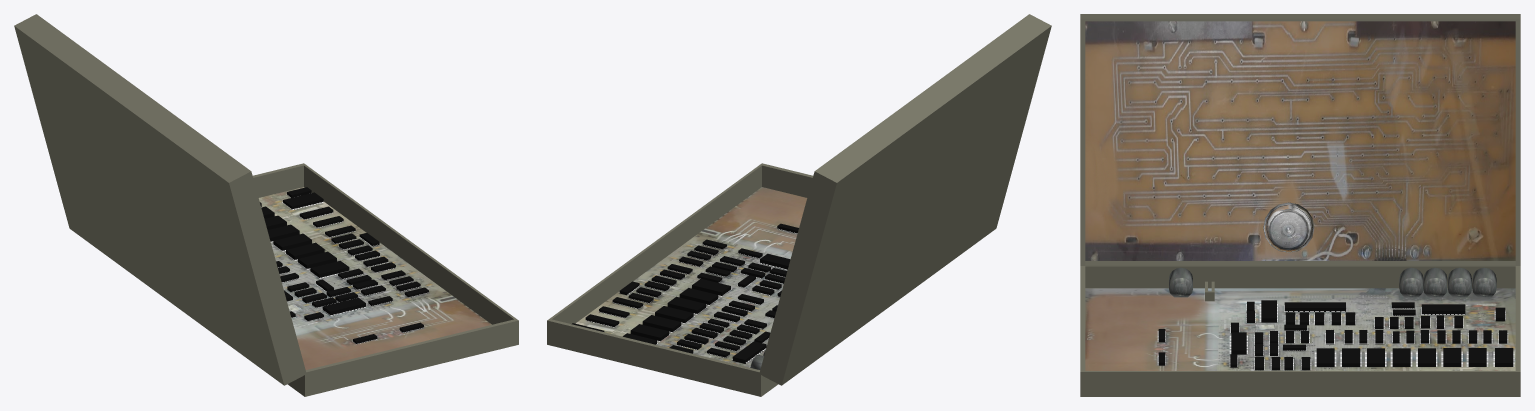
File: robik_pc.glb
3 renders of one model, left to right at view 1: azimuth 30°, elevation 25°; view 2: azimuth 150°, elevation 25°; view 3: azimuth 270°, elevation 25°, orthographic. The views are drawn at different scales.
Visible parts, largest first — view 1: Cube.006, Cube.025; view 2: Cube.006, Cube.025; view 3: Cube.006, Cube.025.
Part boxes in pixels (left/top/right/bottom): Cube.006: left=14, top=14, right=518, bottom=396; Cube.025: left=260, top=187, right=428, bottom=321; Cube.006: left=547, top=14, right=1051, bottom=396; Cube.025: left=571, top=239, right=790, bottom=363; Cube.006: left=1080, top=14, right=1520, bottom=396; Cube.025: left=1229, top=300, right=1514, bottom=370.
Bounding box in the file's own units: 7.2 × 5.67 × 9.24.
13 materials, 7 textured.
